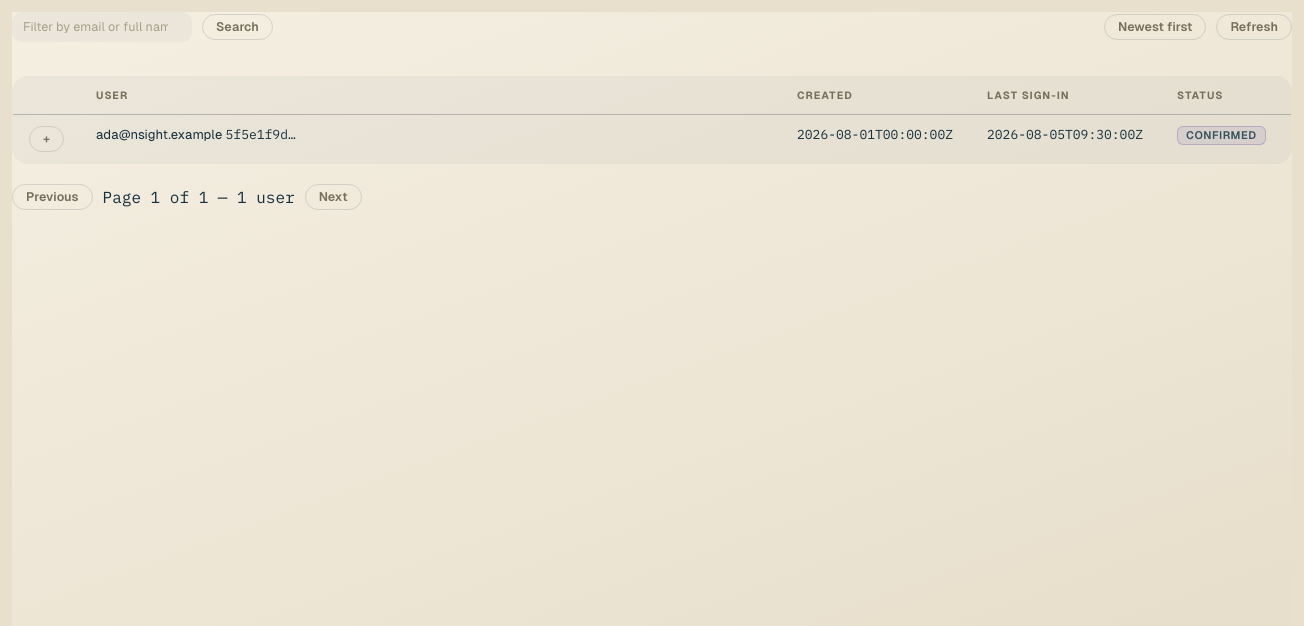
Test: AuthUsersClient — row detail expand › a failing detail fetch shows an inline alert inside the row
The image size is (1304, 626).
Step 1. Click the button named "Expand user detail" → [46, 139], box [29, 126, 64, 152]
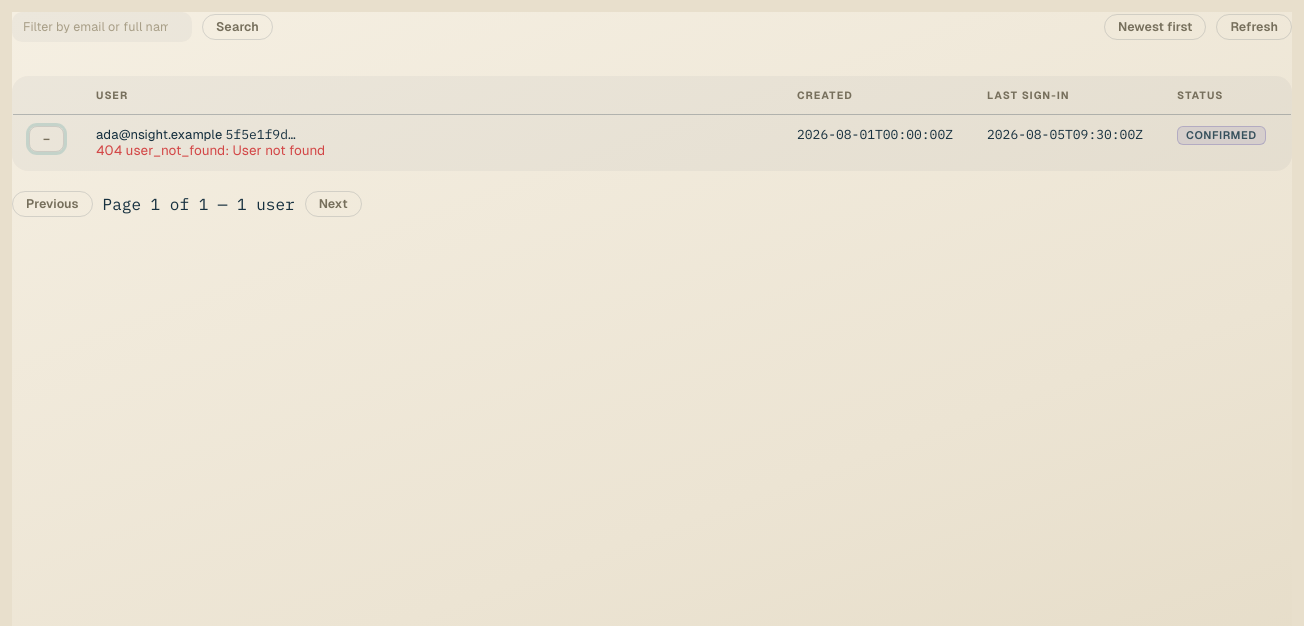
Check: the message reads "404 user_not_found: User not found", box [96, 143, 325, 158]
